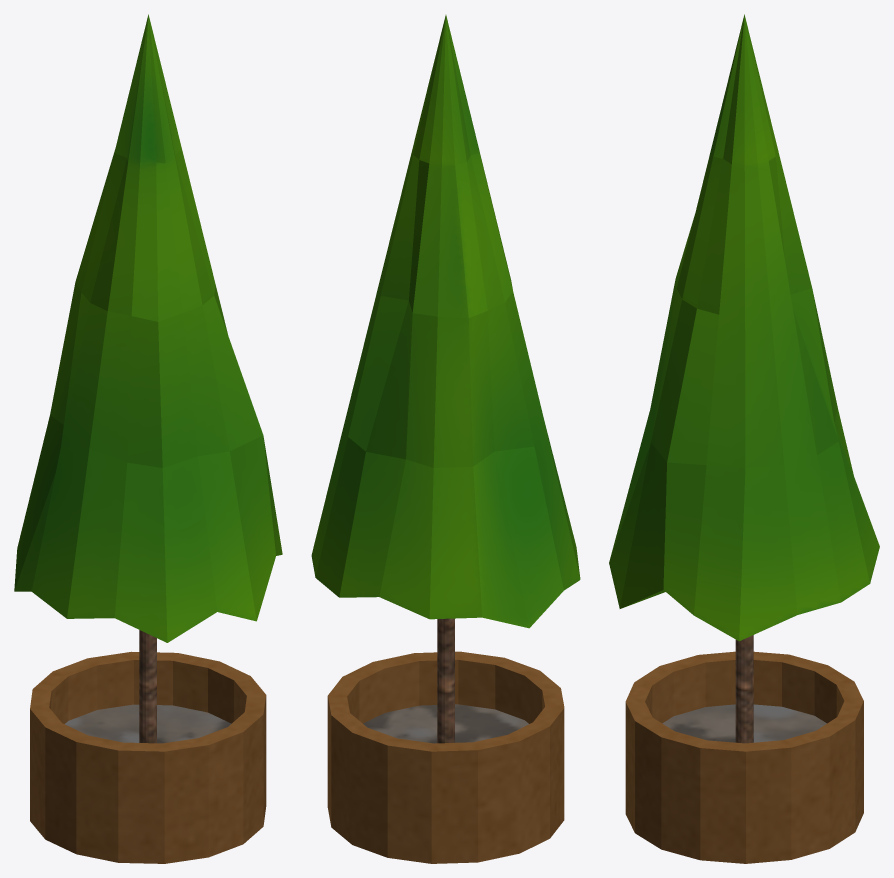
Rendered from pot_tree.obj.
3 views of the same model, side by side, from view 1: azimuth 30°, elevation 25°; view 2: azimuth 150°, elevation 25°; view 3: azimuth 270°, elevation 25° (orthographic).
Parts seen in each view (by area): view 1: pot_Pine_tree_Mesh; view 2: pot_Pine_tree_Mesh; view 3: pot_Pine_tree_Mesh.
Boxes of the visible parts, <box> form: pot_Pine_tree_Mesh: <box>14,14,282,863</box>; pot_Pine_tree_Mesh: <box>311,15,580,863</box>; pot_Pine_tree_Mesh: <box>609,14,879,863</box>.
Size of the model in its own units: 5.97 by 18.68 by 5.74.
1 material, 1 textured.
